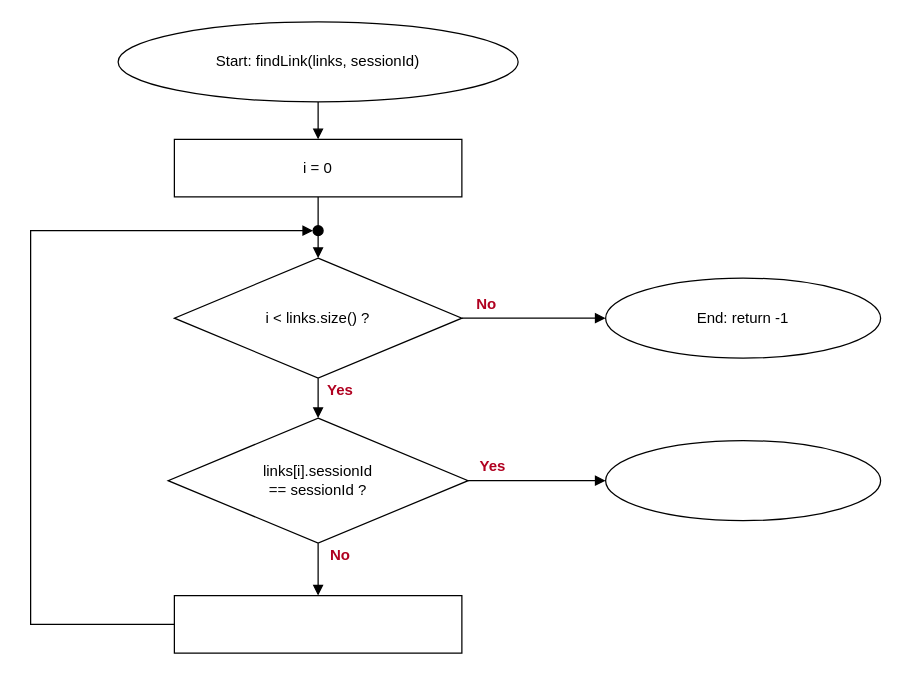
The diagram is 903 pixels wide and 675 high, and some of its shapes have lost their labels. Each missing label, with the centre of its shape:
"End: return i" belongs at point (742, 480).
"i = i + 1" belongs at point (317, 623).
